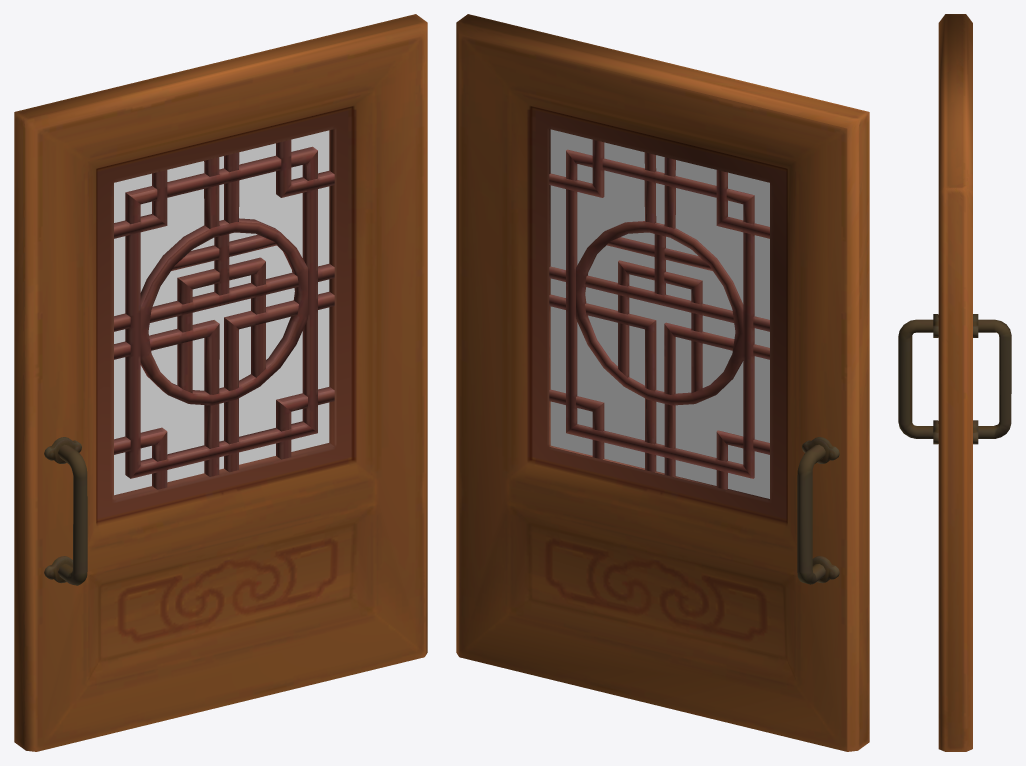
File: door_chinese_as.glb
3 views of the same model, side by side, from view 1: azimuth 30°, elevation 25°; view 2: azimuth 150°, elevation 25°; view 3: azimuth 270°, elevation 25° (orthographic). The views are drawn at different scales.
Parts seen in each view (by area): view 1: BodyS1__mDoorS, GlassS__mWindowGlass; view 2: BodyS1__mDoorS, GlassS__mWindowGlass; view 3: BodyS1__mDoorS.
Part boxes in pixels (<box>): BodyS1__mDoorS: <box>14,14,427,751</box>; GlassS__mWindowGlass: <box>114,130,329,495</box>; BodyS1__mDoorS: <box>456,14,869,751</box>; GlassS__mWindowGlass: <box>550,129,769,498</box>; BodyS1__mDoorS: <box>898,14,1011,751</box>.
Size of the model in its own units: 12 by 18 by 3.29.
2 materials, 1 textured.
